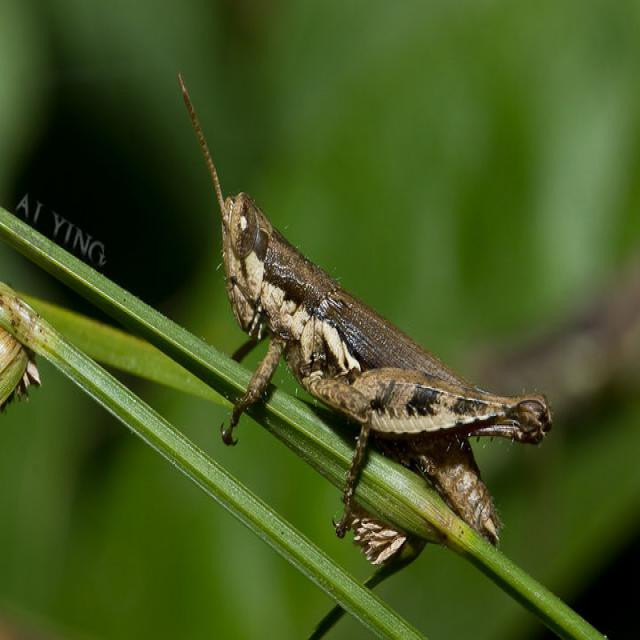ZhaMeng: (183, 156, 540, 554)
